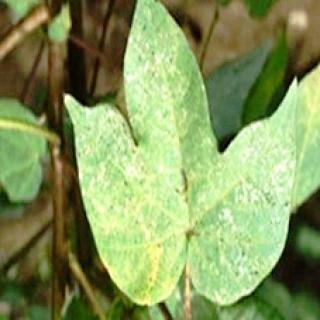grey mildew: (65, 5, 303, 306)
